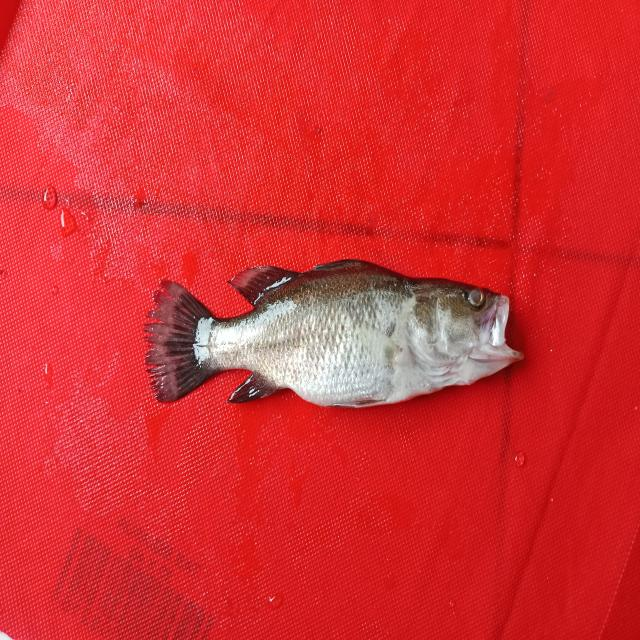ikan: (115, 222, 531, 435)
